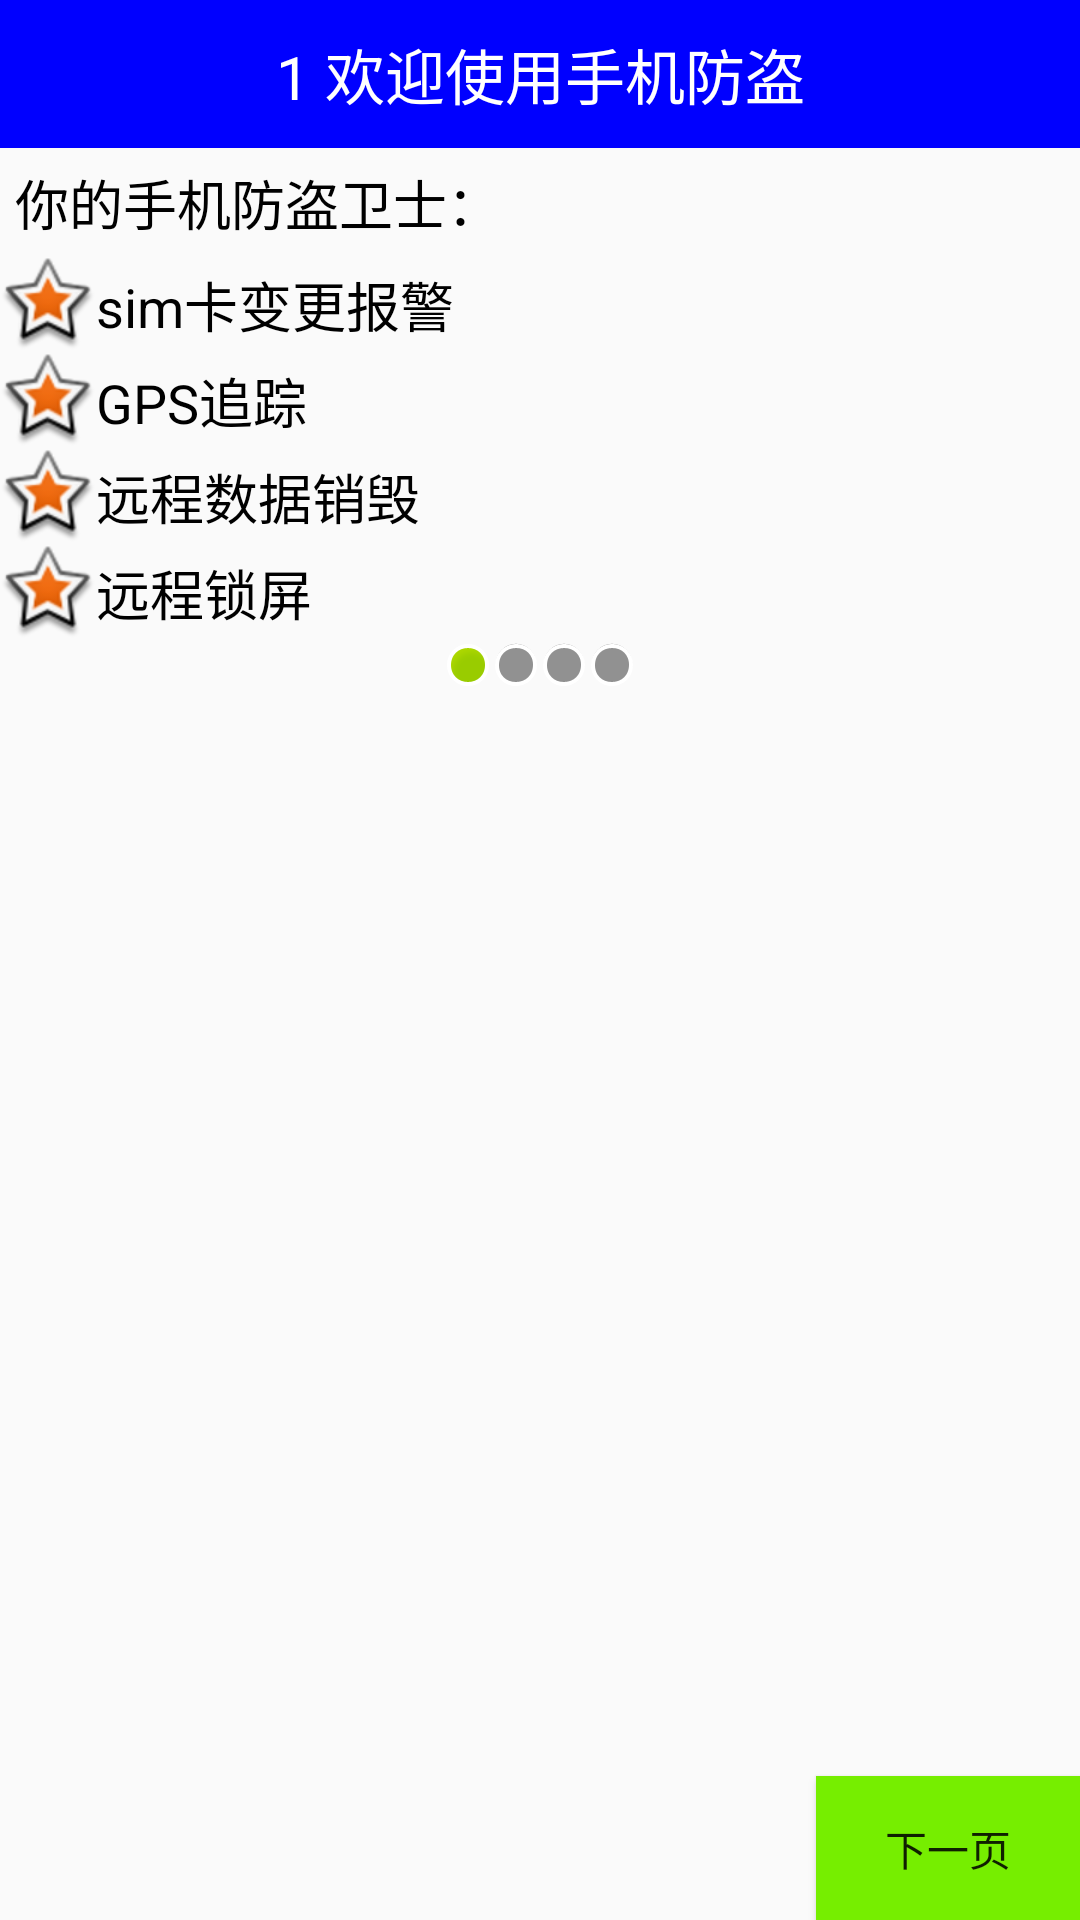

Named icons in this screenshot (1080 x 1920) and their centers, [x,y]:
presence invisible: [516,663], [564,663], [612,663]
presence online: [468,665]
